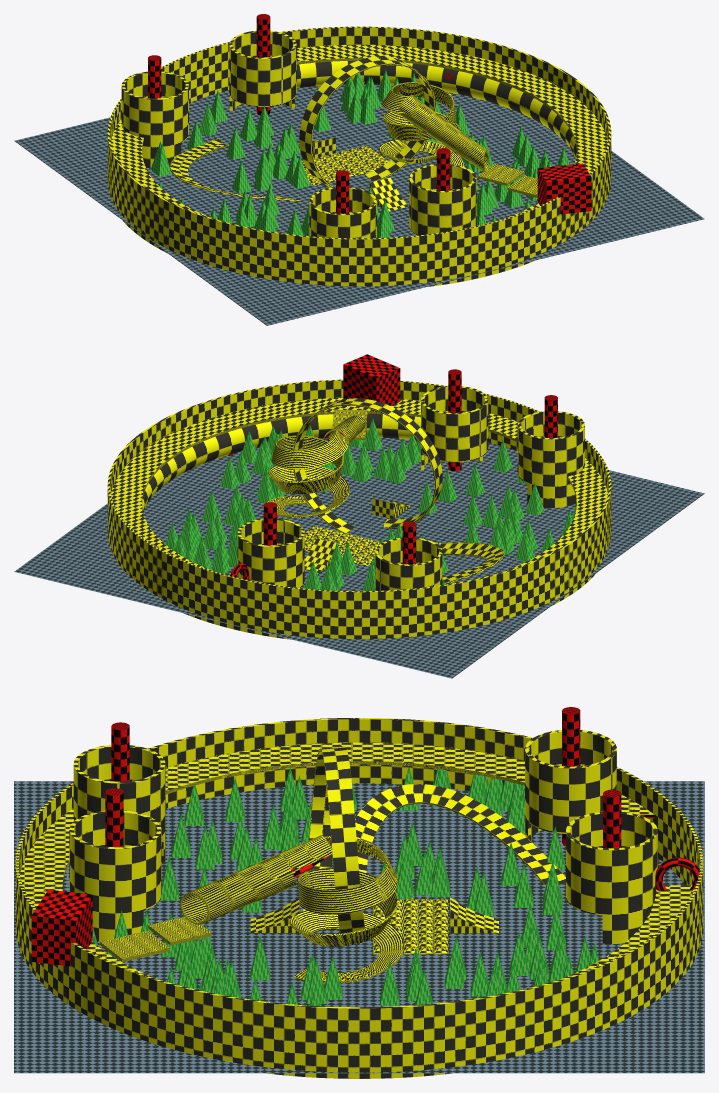
The model's file is escenarioFull3.fbx.
3 renders of one model, top to bottom at view 1: azimuth 30°, elevation 25°; view 2: azimuth 150°, elevation 25°; view 3: azimuth 270°, elevation 25°, orthographic. The views are drawn at different scales.
Visible parts, largest first — view 1: Cloner_4; view 2: Cloner_4; view 3: Cloner_4.
Boxes of the visible parts, left/top/right/bottom form: Cloner_4: left=14, top=14, right=704, bottom=325; Cloner_4: left=14, top=354, right=704, bottom=678; Cloner_4: left=14, top=707, right=704, bottom=1078.
Size of the model in its own units: 3000 by 1013 by 3000.
Materials: 12 (12 with a texture image).
